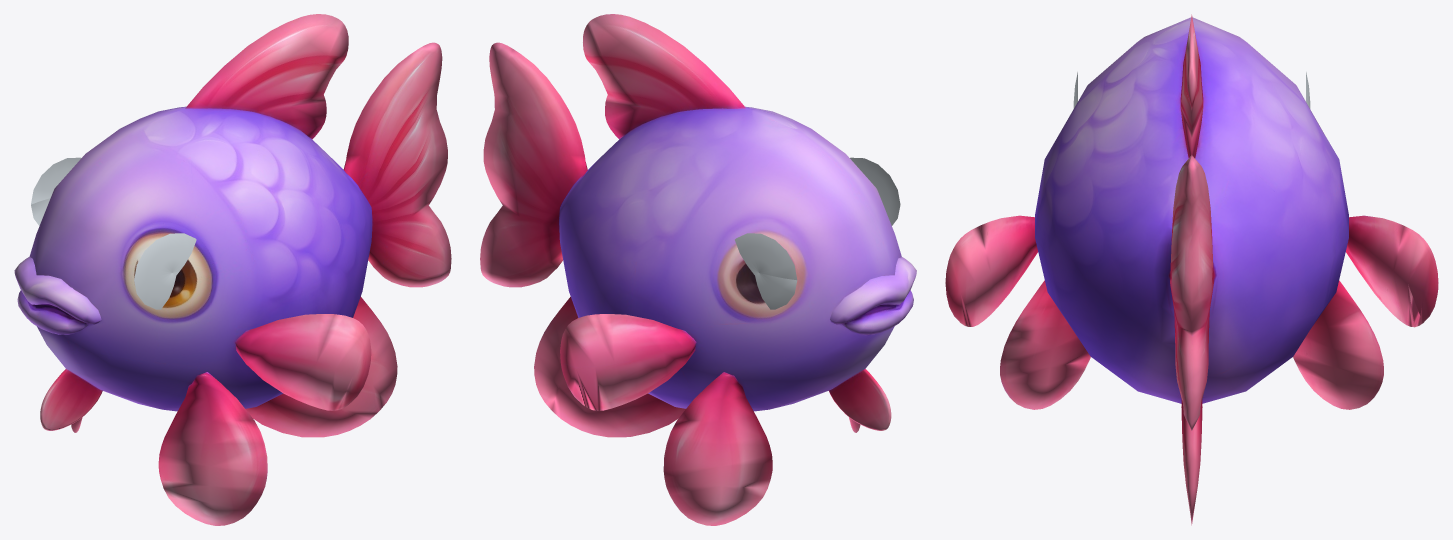
3 views of the same model, side by side, from view 1: azimuth 30°, elevation 25°; view 2: azimuth 150°, elevation 25°; view 3: azimuth 270°, elevation 25° (orthographic). The views are drawn at different scales.
Visible parts, largest first — view 1: SM_tripo_eye_fix_454c4cdc_Body.006, SM_tripo_eye_fix_454c4cdc_Eye_R.006, SM_tripo_eye_fix_454c4cdc_Eye_L.006; view 2: SM_tripo_eye_fix_454c4cdc_Body.006, SM_tripo_eye_fix_454c4cdc_Eye_L.006, SM_tripo_eye_fix_454c4cdc_Eye_R.006; view 3: SM_tripo_eye_fix_454c4cdc_Body.006.
Boxes of the visible parts, box(x1,y1,x2,y2) form: SM_tripo_eye_fix_454c4cdc_Body.006: box(14, 14, 451, 525); SM_tripo_eye_fix_454c4cdc_Eye_R.006: box(134, 233, 196, 309); SM_tripo_eye_fix_454c4cdc_Eye_L.006: box(31, 157, 81, 225); SM_tripo_eye_fix_454c4cdc_Body.006: box(480, 14, 916, 525); SM_tripo_eye_fix_454c4cdc_Eye_L.006: box(735, 233, 797, 309); SM_tripo_eye_fix_454c4cdc_Eye_R.006: box(850, 157, 900, 225); SM_tripo_eye_fix_454c4cdc_Body.006: box(945, 14, 1438, 525).
Size of the model in its own units: 99.95 by 95.56 by 90.48.
Materials: 2 (1 with a texture image).
